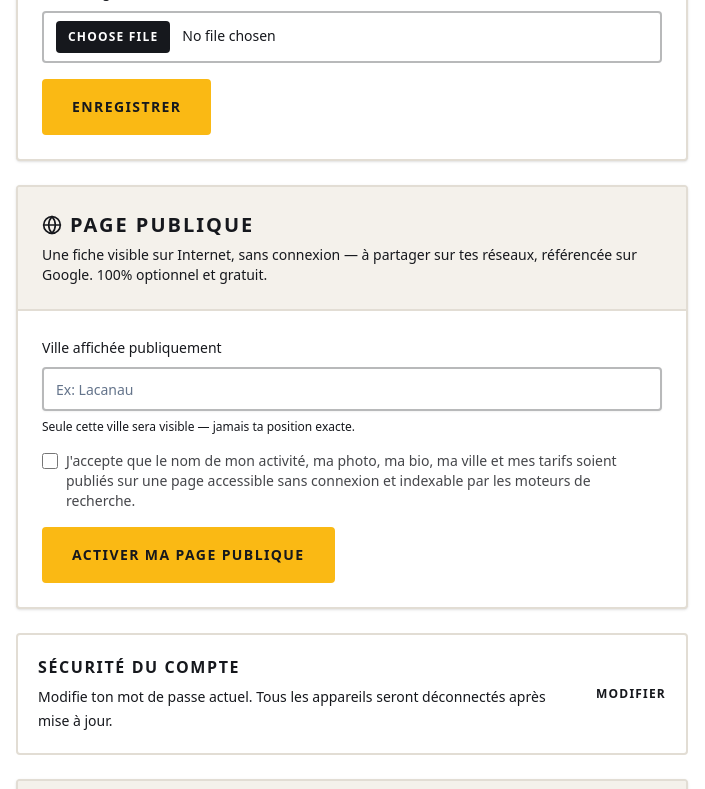
Test case: Page publique — profil non activé › active avec ville + consentement → PATCH /pro/me/visibility
(page scrolled)
Type "Lacanau" into the field labelled "Ville affichée publiquement".
click(352, 389); type("Lacanau")  # box [42,367,662,411]
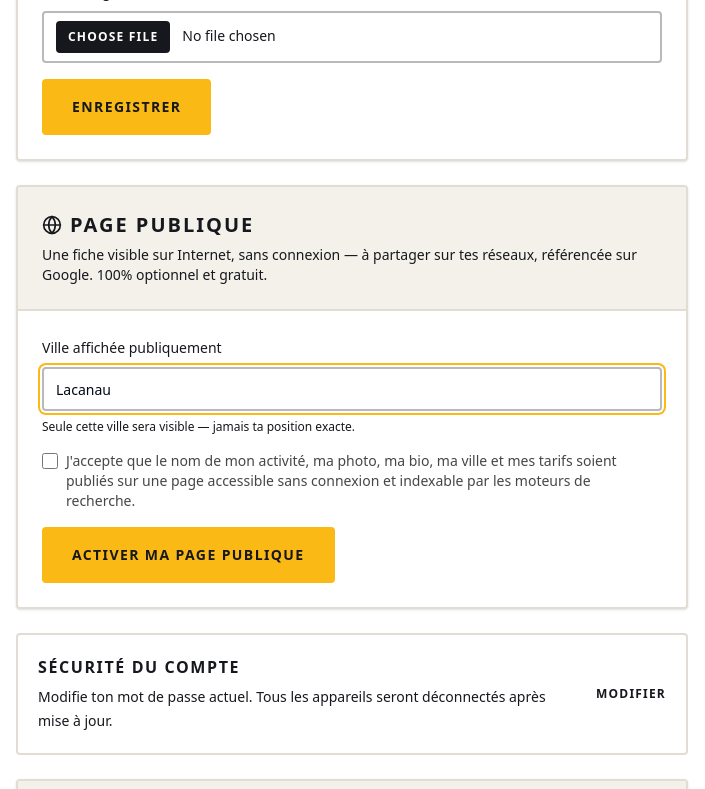
Click the checkbox.
click(50, 461)  # box [42,453,58,469]
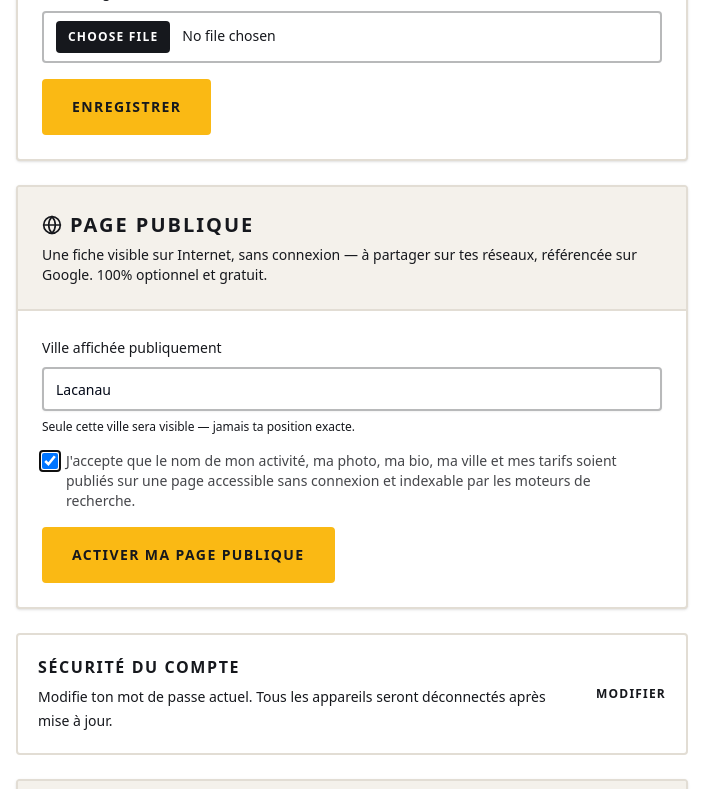
Click the button "Activer ma page publique".
click(188, 555)  # box [42,527,335,583]
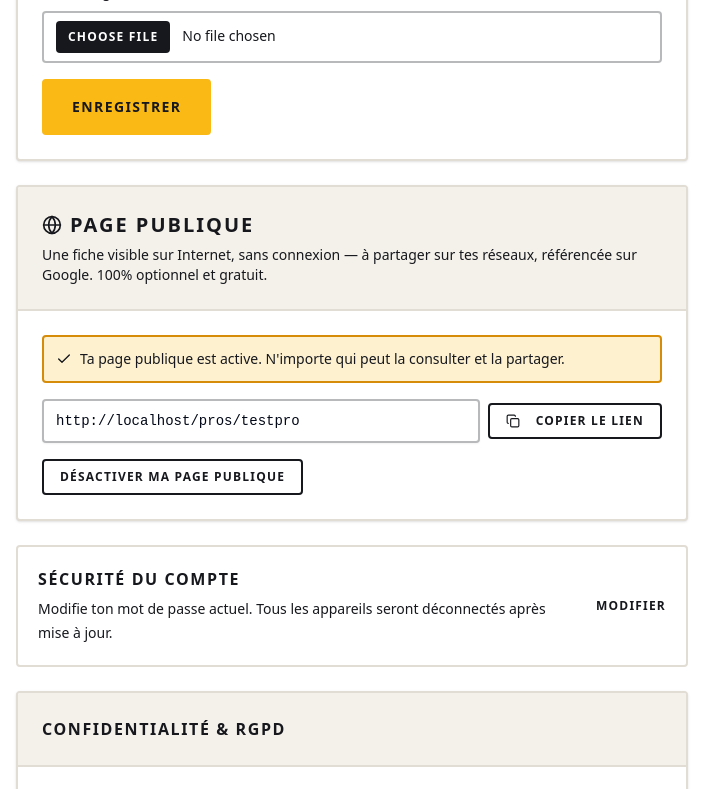
Expected: the field showing "/pros/testpro" is shown, [42,399,480,443]
